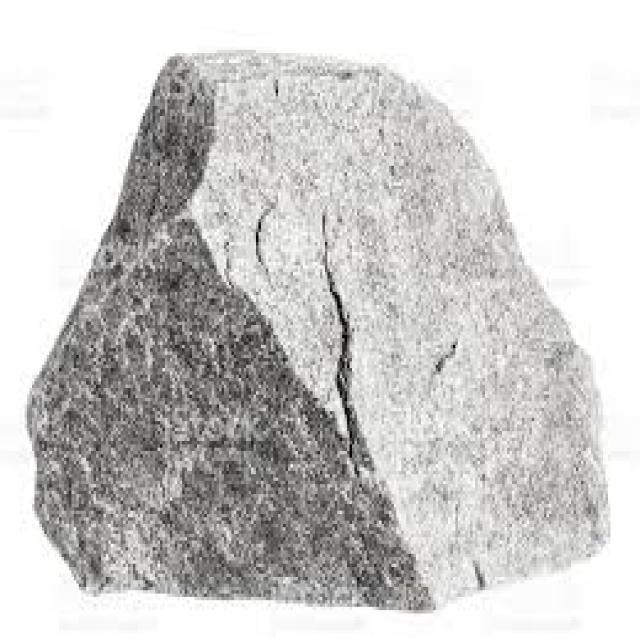Metamorphic: (39, 43, 606, 607)
